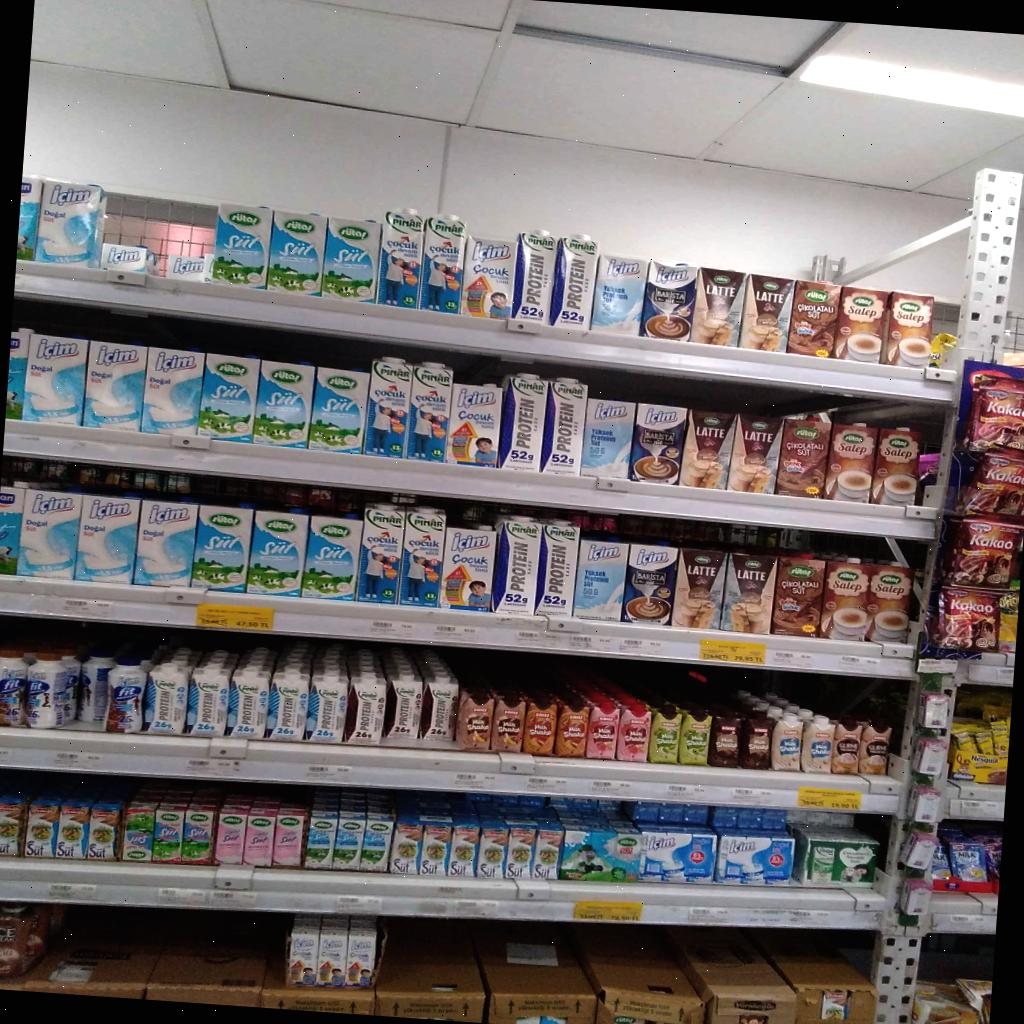price_tag: (196, 604, 274, 631), (699, 640, 766, 665), (797, 787, 862, 811), (574, 901, 643, 922), (774, 909, 837, 927), (60, 598, 113, 619), (187, 758, 242, 776), (450, 899, 499, 918), (688, 907, 741, 924), (53, 751, 103, 769), (47, 882, 97, 900), (211, 890, 257, 909), (157, 888, 208, 905), (336, 895, 381, 914), (769, 652, 818, 669), (455, 773, 497, 791), (526, 777, 568, 794), (306, 765, 352, 780), (664, 784, 707, 800), (840, 654, 880, 671), (590, 780, 632, 796), (732, 787, 772, 802), (539, 633, 567, 648), (370, 620, 396, 636), (456, 626, 480, 642), (394, 621, 416, 638), (435, 624, 457, 641), (569, 635, 593, 650), (593, 636, 614, 653), (516, 630, 541, 644), (644, 640, 665, 655), (622, 638, 644, 652), (0, 749, 12, 763)
product: (22, 333, 88, 425), (559, 810, 643, 882), (34, 180, 102, 267), (18, 490, 82, 580), (83, 342, 147, 431), (792, 822, 879, 887), (76, 495, 140, 583), (140, 347, 204, 434), (134, 500, 198, 586), (199, 353, 259, 443), (253, 361, 315, 448), (192, 506, 253, 592), (247, 510, 308, 596), (303, 514, 362, 602), (212, 203, 272, 289), (266, 210, 326, 295), (310, 367, 368, 453), (356, 503, 404, 605), (322, 218, 380, 302), (492, 516, 541, 615), (438, 526, 495, 611), (399, 506, 446, 607), (499, 374, 547, 472), (768, 557, 826, 638), (365, 357, 411, 459), (720, 552, 777, 634), (446, 383, 501, 467), (591, 254, 648, 335), (630, 403, 687, 484), (540, 378, 587, 476), (406, 362, 452, 462), (377, 210, 423, 309), (420, 216, 466, 314), (679, 410, 736, 489), (727, 414, 783, 494), (622, 544, 677, 625), (460, 236, 514, 318), (574, 538, 628, 620), (715, 829, 794, 885), (642, 261, 697, 341), (581, 398, 636, 478), (672, 547, 726, 628), (777, 419, 831, 499), (739, 273, 794, 351), (551, 236, 597, 329), (642, 826, 716, 883), (511, 232, 556, 325), (535, 522, 580, 615), (825, 423, 877, 503), (835, 286, 889, 362), (693, 267, 745, 345), (881, 291, 934, 367), (821, 561, 871, 641), (788, 281, 840, 357), (871, 429, 920, 505), (865, 566, 912, 642), (144, 659, 188, 735), (106, 656, 146, 733), (186, 663, 228, 736), (227, 665, 269, 738), (305, 671, 348, 742), (268, 668, 309, 741), (345, 670, 385, 744), (26, 652, 64, 728), (5, 328, 33, 420), (420, 678, 458, 745), (384, 675, 422, 741), (456, 687, 494, 751), (16, 176, 43, 260), (0, 645, 28, 726), (54, 798, 90, 859), (388, 812, 424, 873), (0, 481, 23, 576), (491, 691, 525, 752), (523, 696, 558, 755), (25, 798, 60, 857), (304, 809, 338, 869), (86, 802, 121, 860), (476, 818, 509, 879), (122, 802, 156, 861), (585, 702, 620, 759), (153, 804, 186, 863), (181, 808, 216, 863), (679, 708, 712, 765), (616, 707, 650, 762), (555, 702, 589, 757), (802, 715, 834, 773), (532, 821, 564, 879), (332, 813, 365, 869), (272, 810, 304, 867), (360, 815, 392, 872), (708, 715, 742, 768), (649, 706, 680, 764), (420, 821, 453, 875), (244, 809, 275, 866), (859, 720, 891, 775), (772, 714, 802, 772), (740, 716, 772, 770), (831, 718, 861, 774), (505, 825, 536, 878), (216, 811, 247, 863), (0, 796, 27, 855), (448, 817, 475, 876)
